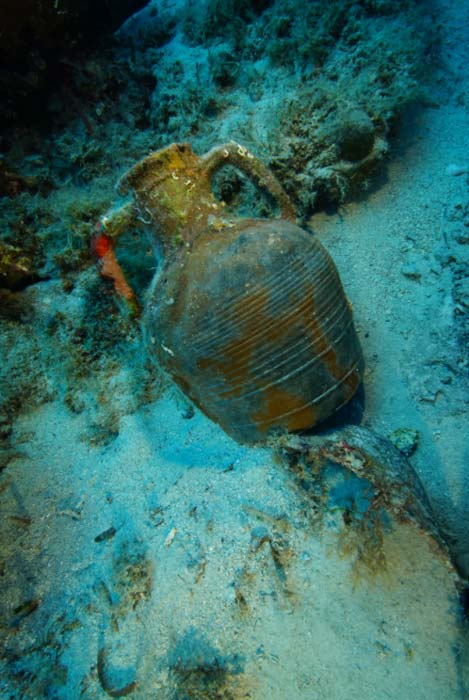amphora: (90, 139, 377, 451)
